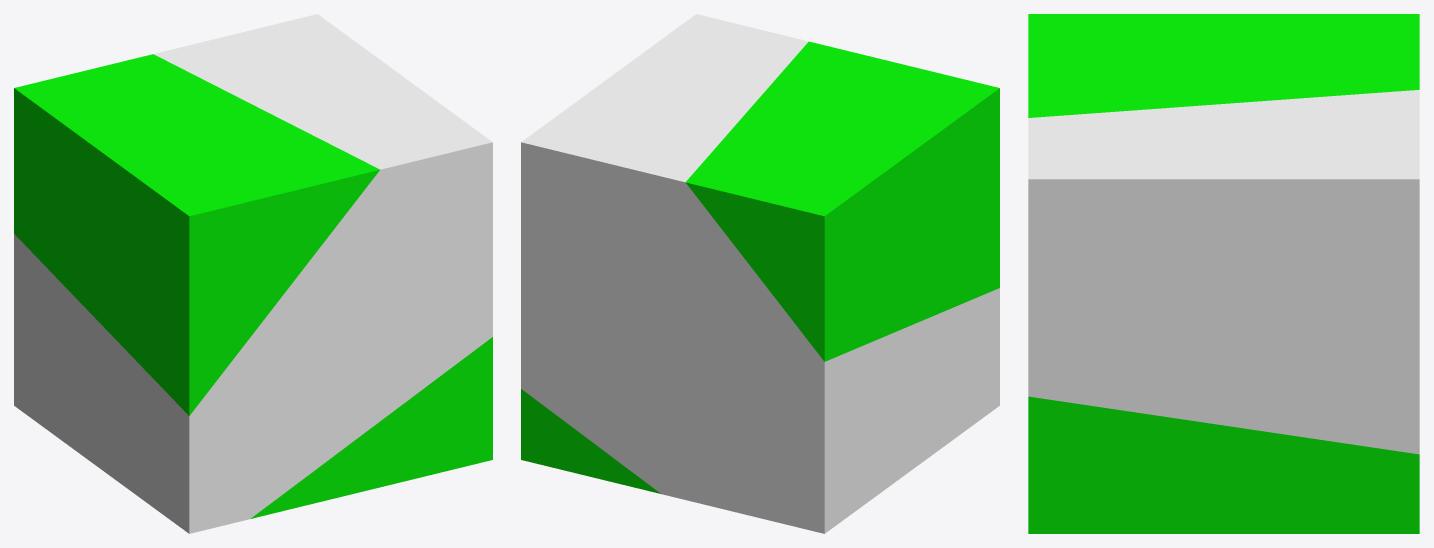
The model's file is wall.obj.
3 renders of one model, left to right at view 1: azimuth 30°, elevation 25°; view 2: azimuth 150°, elevation 25°; view 3: azimuth 270°, elevation 25°, orthographic. The views are drawn at different scales.
Parts seen in each view (by area): view 1: pCube1; view 2: pCube1; view 3: pCube1.
Boxes of the visible parts, left/top/right/bottom form: pCube1: left=14, top=14, right=492, bottom=533; pCube1: left=521, top=14, right=999, bottom=533; pCube1: left=1028, top=14, right=1419, bottom=533.
Size of the model in its own units: 1 by 1 by 1.
